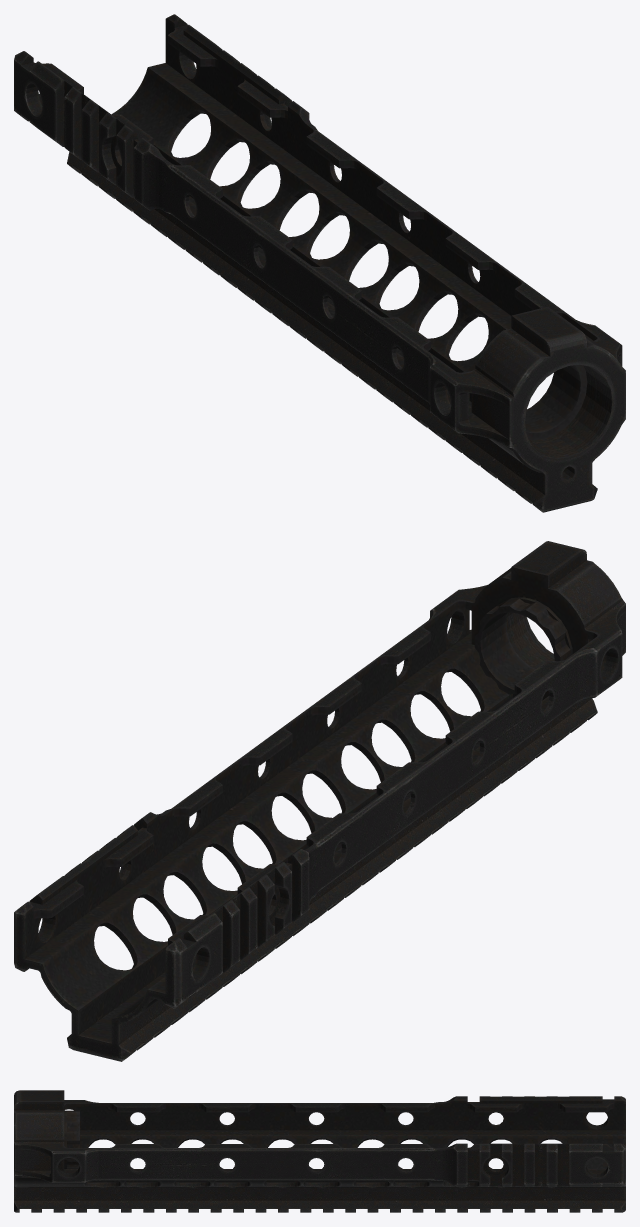
The picture shows the model from 3 angles, top to bottom: view 1: azimuth 30°, elevation 25°; view 2: azimuth 150°, elevation 25°; view 3: azimuth 270°, elevation 25°; orthographic projection. The views are drawn at different scales.
Visible parts, largest first — view 1: TW_5d122e7bd7ad1a07102d6d7f_PZ_Import; view 2: TW_5d122e7bd7ad1a07102d6d7f_PZ_Import; view 3: TW_5d122e7bd7ad1a07102d6d7f_PZ_Import.
Boxes of the visible parts, x1,y1,x2,y2 form: TW_5d122e7bd7ad1a07102d6d7f_PZ_Import: (14, 14, 625, 512); TW_5d122e7bd7ad1a07102d6d7f_PZ_Import: (14, 541, 625, 1061); TW_5d122e7bd7ad1a07102d6d7f_PZ_Import: (14, 1090, 625, 1212).
Size of the model in its own units: 0.0323 by 0.1583 by 0.031.
1 material, 1 textured.
